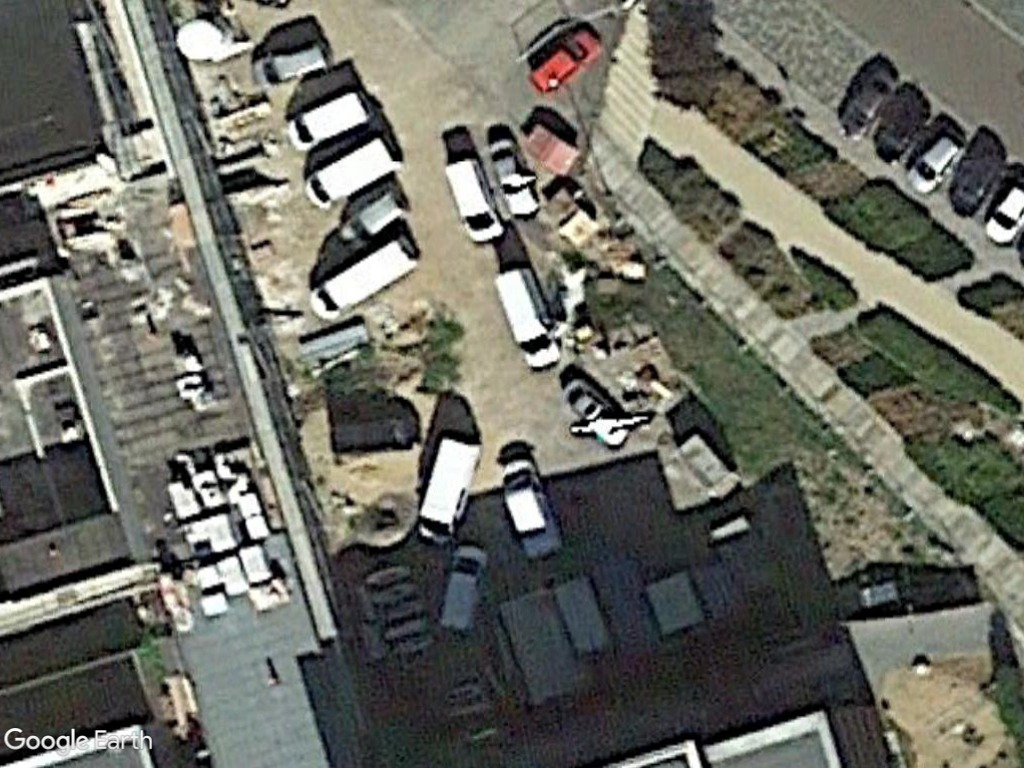car: (901, 128, 969, 196)
van: (301, 233, 432, 327), (483, 258, 571, 378), (299, 131, 402, 215), (416, 426, 485, 550), (435, 151, 512, 256), (285, 85, 380, 154), (245, 38, 333, 90)
